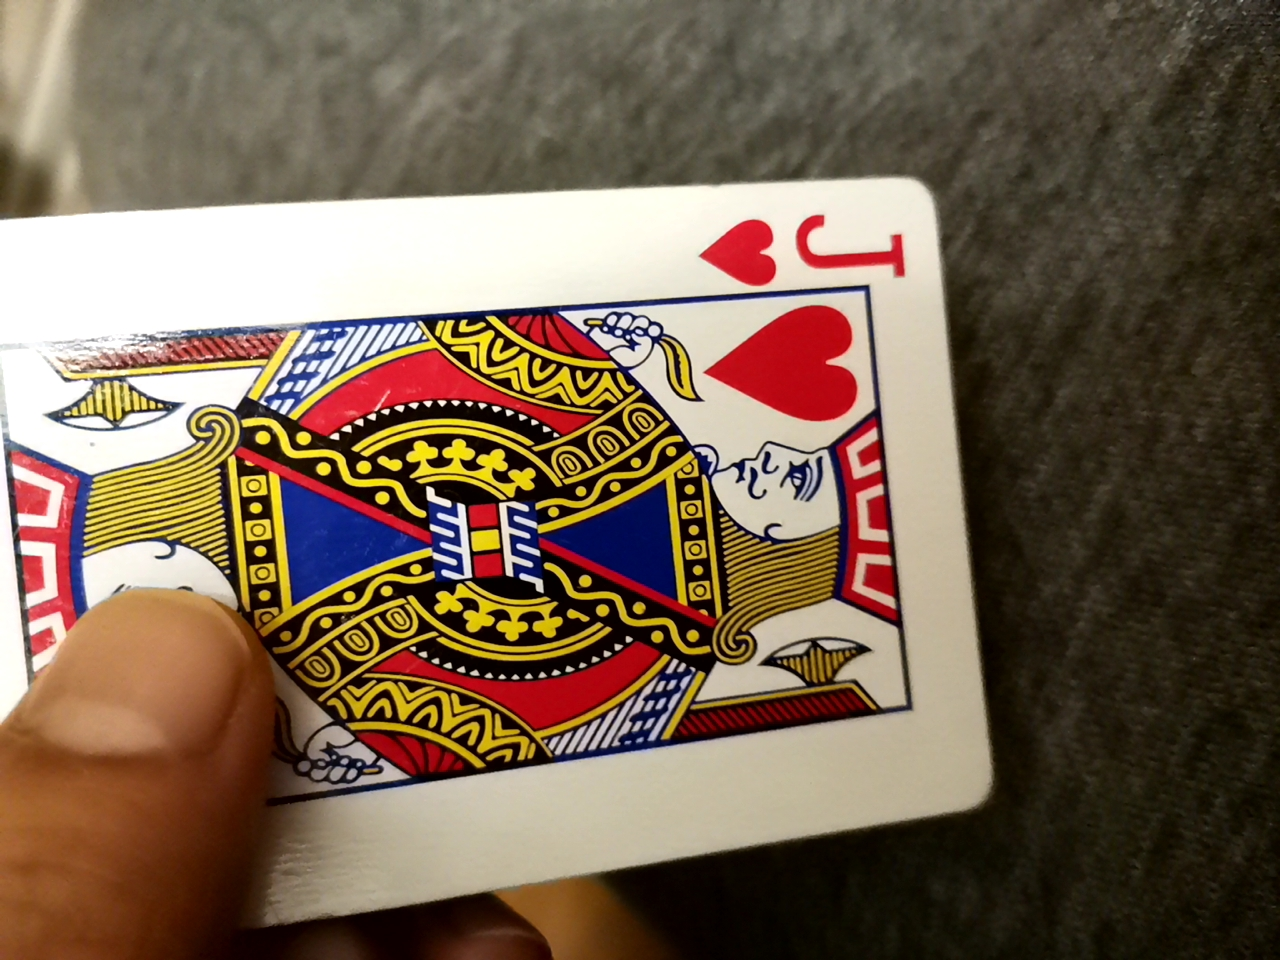hx j: (5, 176, 1004, 917)
